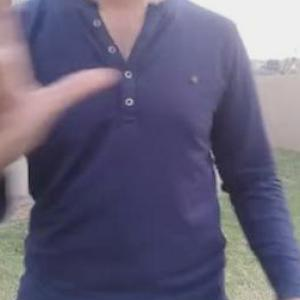land_hand: (0, 0, 126, 175)
